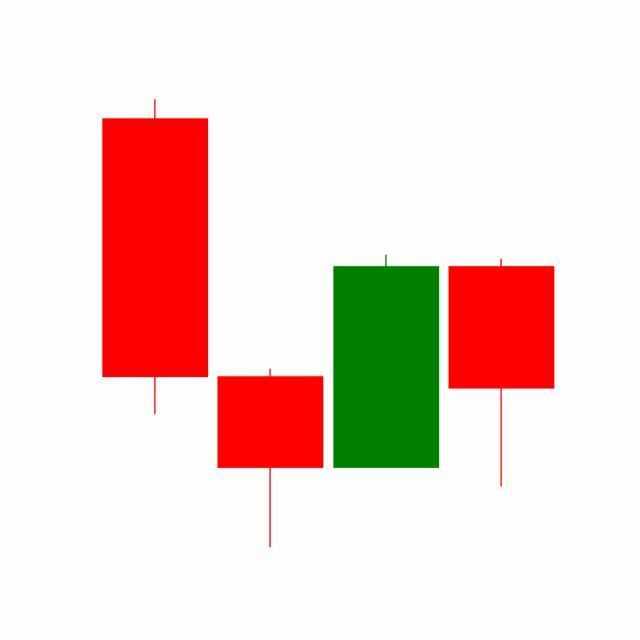Marubozu: (329, 253, 445, 471)
